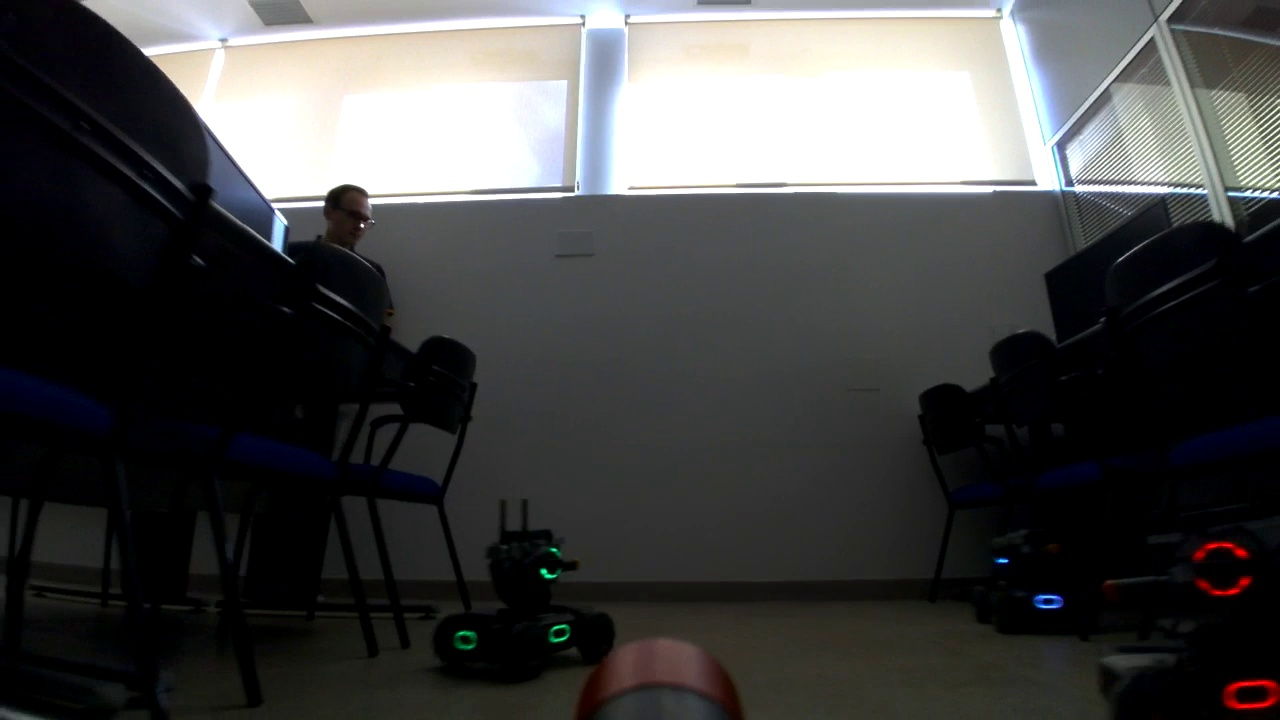robot: (1102, 529, 1280, 720), (434, 498, 617, 681), (978, 511, 1110, 633)
